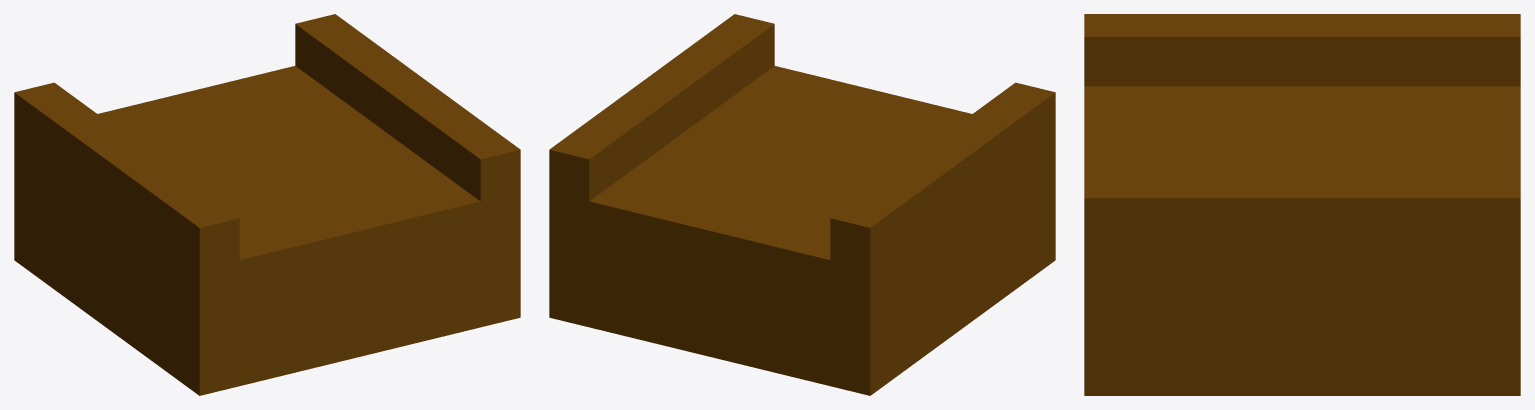
The model's file is golf2.fbx.
3 renders of one model, left to right at view 1: azimuth 30°, elevation 25°; view 2: azimuth 150°, elevation 25°; view 3: azimuth 270°, elevation 25°, orthographic. The views are drawn at different scales.
Visible parts, largest first — view 1: Cube; view 2: Cube; view 3: Cube.
Boxes of the visible parts, bbox=[...] form: Cube: bbox=[14, 14, 520, 395]; Cube: bbox=[549, 14, 1055, 395]; Cube: bbox=[1084, 14, 1520, 395].
Size of the model in its own units: 200 by 100 by 200.
